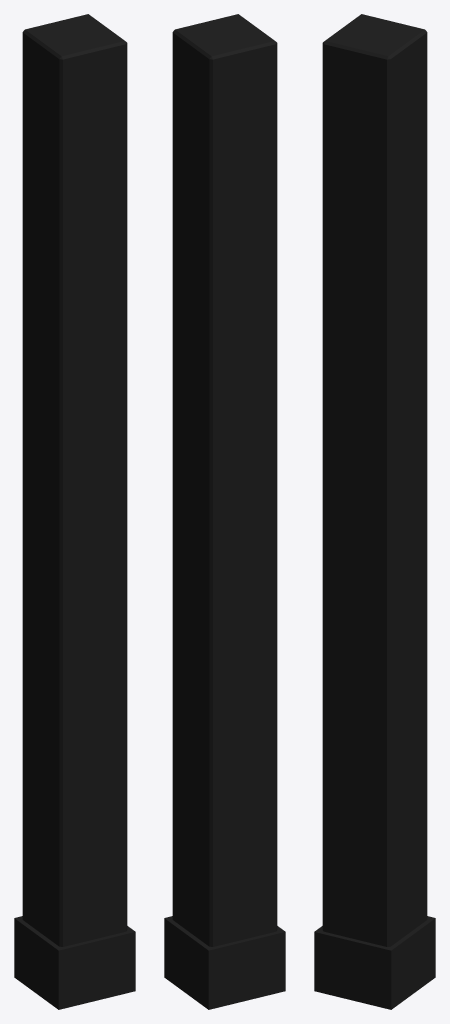
Rendered from SM_Build_Eckpfeiler_Schwarz.fbx.
The picture shows the model from 3 angles, left to right: view 1: azimuth 30°, elevation 25°; view 2: azimuth 210°, elevation 25°; view 3: azimuth 330°, elevation 25°; orthographic projection.
Parts seen in each view (by area): view 1: Eckpfeiler Schwarz; view 2: Eckpfeiler Schwarz; view 3: Eckpfeiler Schwarz.
Boxes of the visible parts, left/top/right/bottom form: Eckpfeiler Schwarz: left=14, top=14, right=135, bottom=1009; Eckpfeiler Schwarz: left=164, top=14, right=285, bottom=1009; Eckpfeiler Schwarz: left=314, top=14, right=435, bottom=1009.
Size of the model in its own units: 0.34 by 4 by 0.34.
